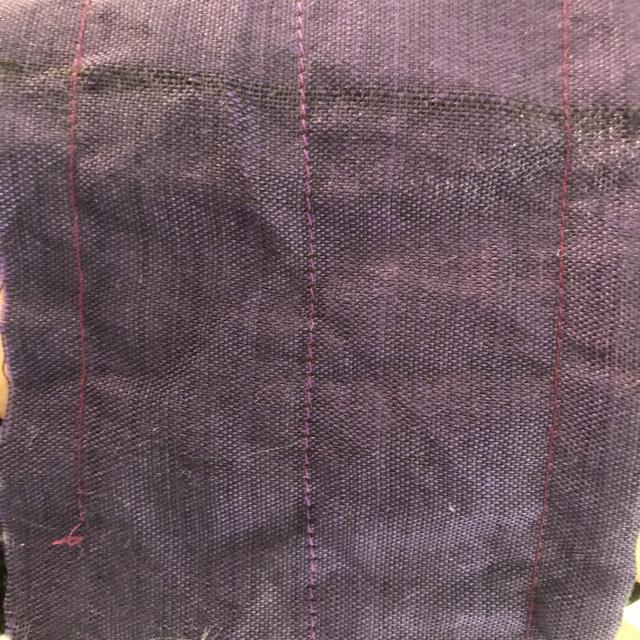good: (274, 134, 343, 338)
